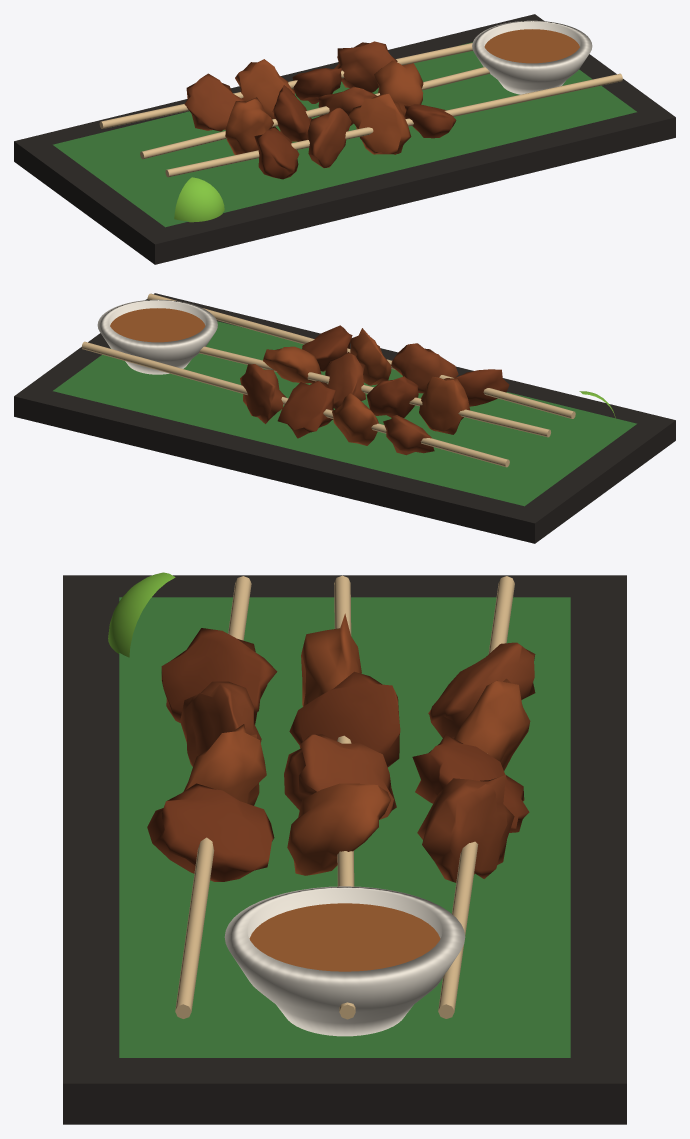
Rendered from satay.glb.
The picture shows the model from 3 angles, top to bottom: view 1: azimuth 30°, elevation 25°; view 2: azimuth 150°, elevation 25°; view 3: azimuth 270°, elevation 25°; orthographic projection. The views are drawn at different scales.
Parts seen in each view (by area): view 1: stoneware, banana_leaf, grilled_meat (×3), bamboo, ceramic, peanut_sauce, lime; view 2: banana_leaf, stoneware, grilled_meat (×3), bamboo, ceramic, peanut_sauce; view 3: banana_leaf, stoneware, grilled_meat (×3), ceramic, peanut_sauce, bamboo, lime.
Boxes of the visible parts, x1,y1,x2,y2 form: stoneware: [14, 14, 675, 264]; banana_leaf: [53, 42, 636, 227]; grilled_meat (×3): [184, 41, 456, 179]; bamboo: [99, 43, 622, 177]; ceramic: [472, 20, 592, 94]; peanut_sauce: [484, 29, 579, 63]; lime: [174, 177, 224, 222]; banana_leaf: [53, 321, 636, 506]; stoneware: [14, 293, 675, 543]; grilled_meat (×3): [240, 325, 509, 455]; bamboo: [81, 293, 575, 467]; ceramic: [97, 299, 217, 374]; peanut_sauce: [110, 308, 205, 342]; banana_leaf: [119, 597, 570, 1057]; stoneware: [63, 575, 626, 1124]; grilled_meat (×3): [147, 613, 535, 882]; ceramic: [224, 886, 465, 1036]; peanut_sauce: [249, 903, 440, 971]; bamboo: [175, 575, 514, 1019]; lime: [108, 572, 175, 657].
Bounding box in the file's own units: 0.32 × 0.0442 × 0.15.
